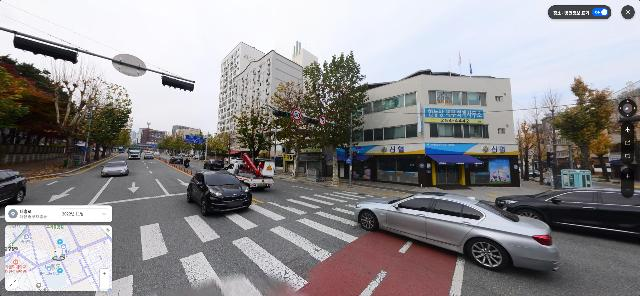other: (305, 51, 369, 186), (40, 50, 111, 168), (552, 75, 617, 170), (268, 80, 317, 180), (86, 86, 135, 160), (228, 96, 278, 168)
